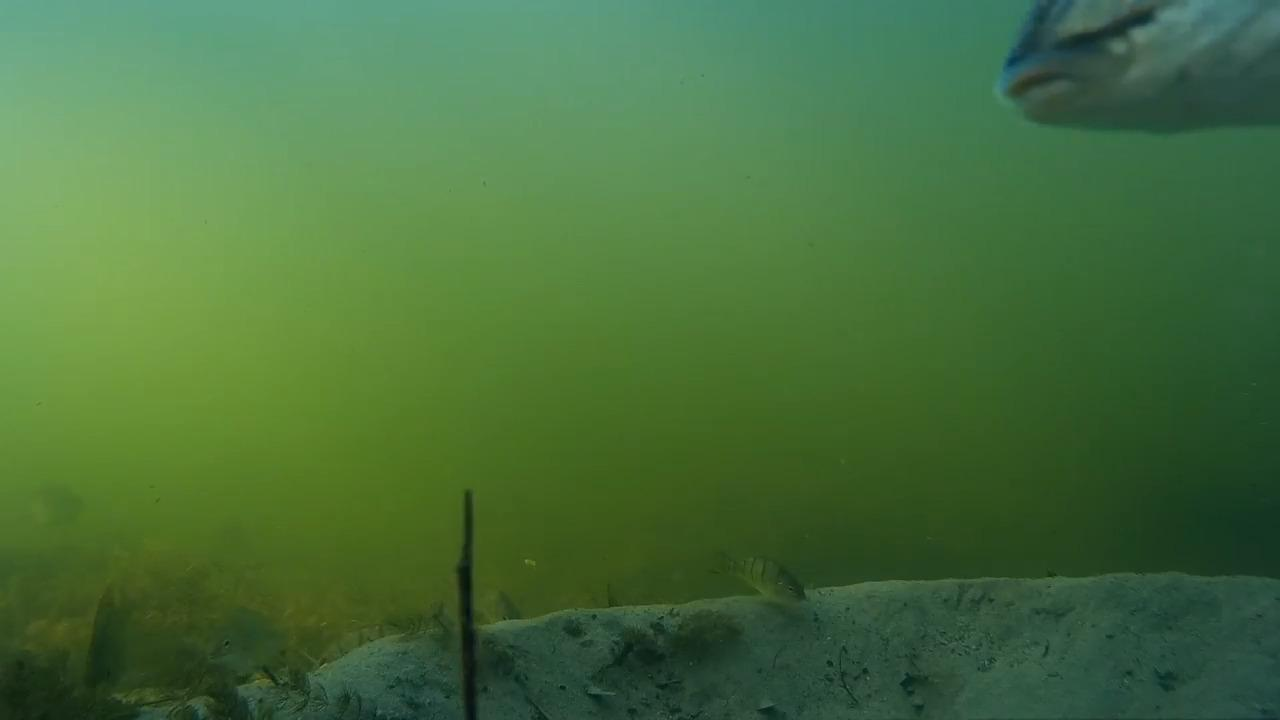Tilapia: (997, 2, 1275, 137), (718, 538, 835, 626), (193, 600, 315, 678), (79, 576, 151, 700)
